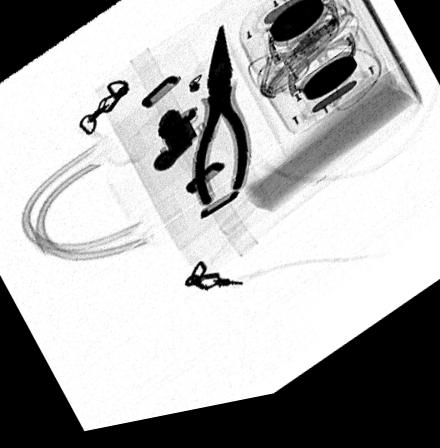Pliers: (194, 32, 248, 215)
